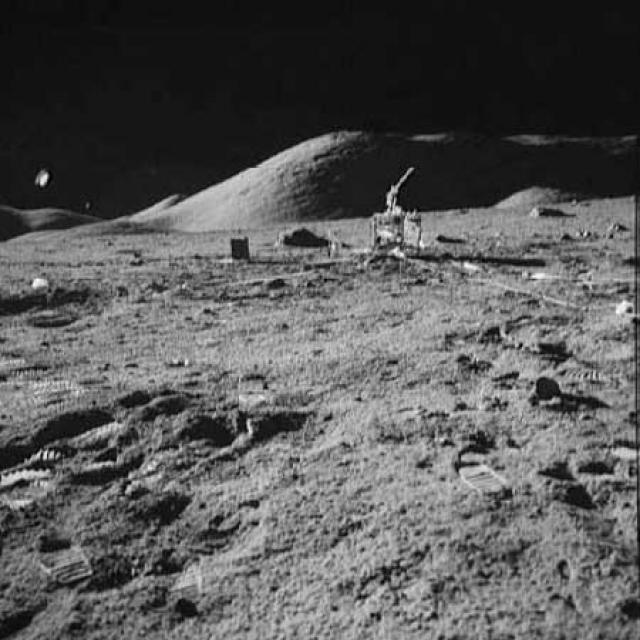artifact: (348, 165, 421, 267), (221, 226, 254, 260)
rock: (280, 224, 322, 252), (519, 200, 568, 223)
